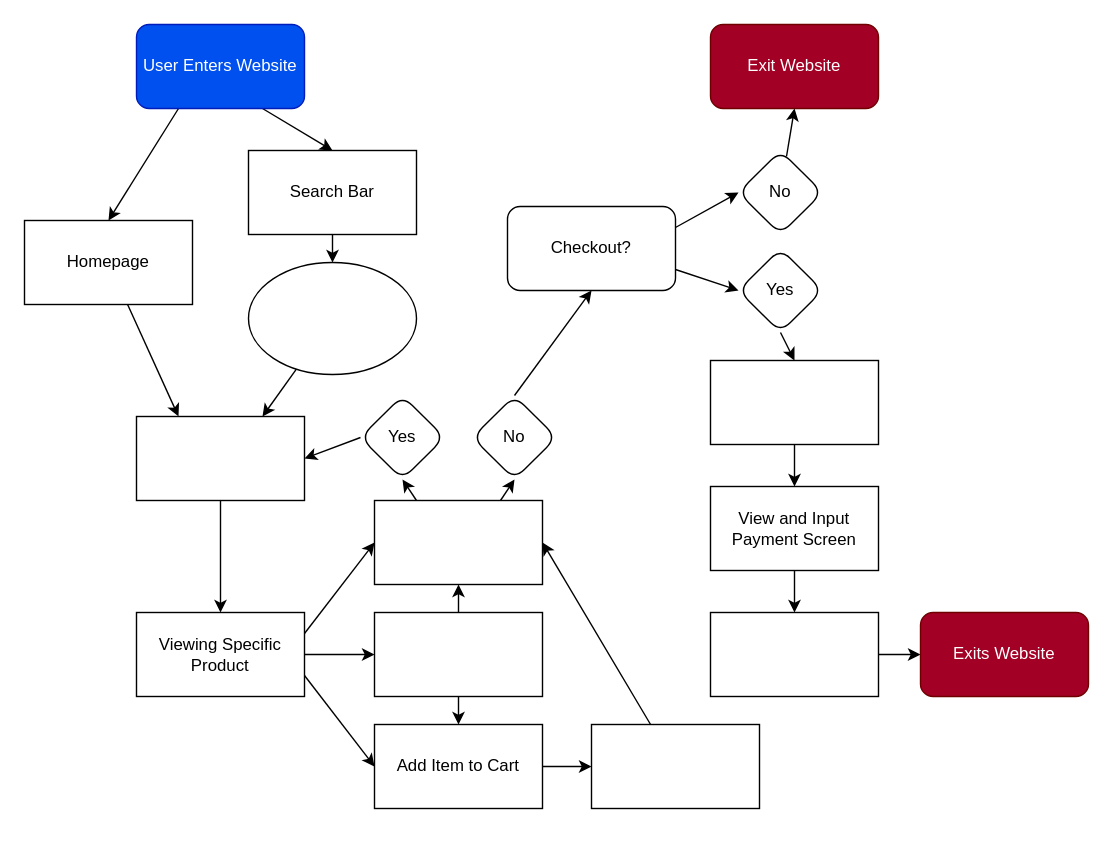
Image size: 1113x844. Some labels were removed from this diagram. The centre of each missing label's shape, as x and y in pixels:
"Cart Notification" belongs at point 675,765.
"Continue Shopping?" belongs at point 457,541.
"Explores Products" belongs at point 219,457.
"Order Confirmation Screen and Email" belongs at point 793,653.
"User Provides Input" belongs at point 331,317.
"View Cart Screen" belongs at point 793,401.
"View Item's Webpage" belongs at point 457,653.
